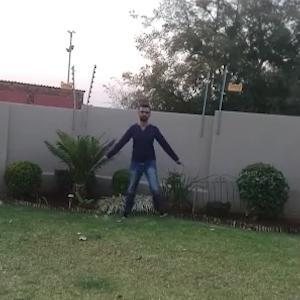land: (96, 99, 188, 221)
